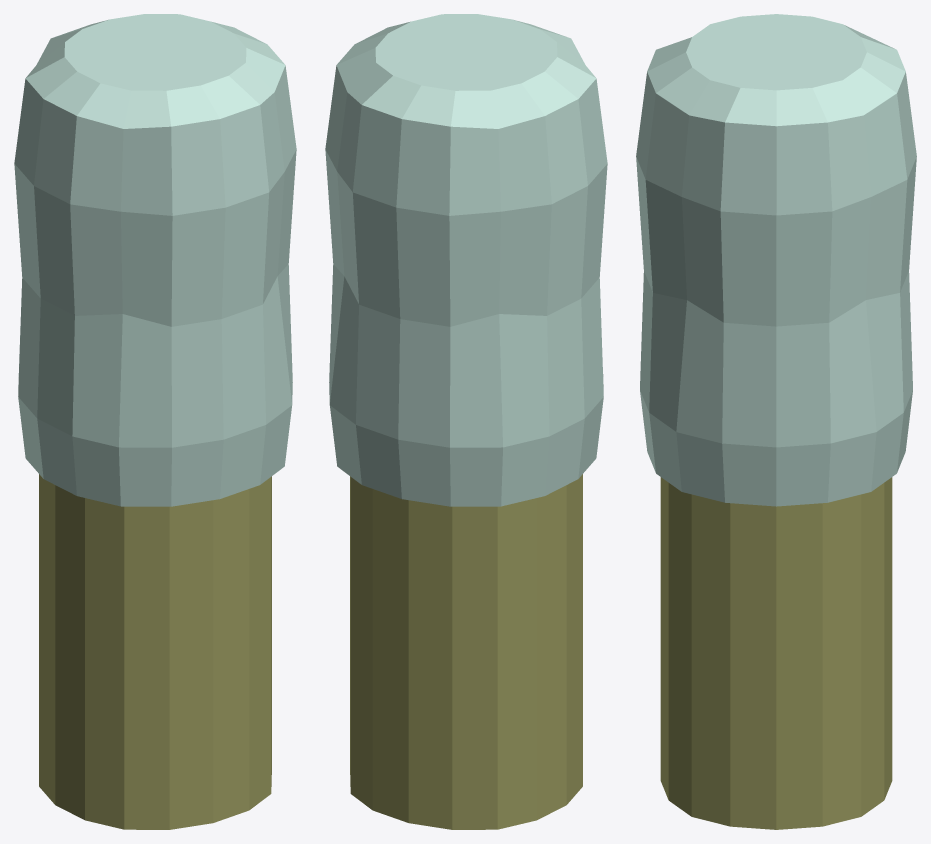
Rendered from Perangkap_Model.fbx.
3 views of the same model, side by side, from view 1: azimuth 30°, elevation 25°; view 2: azimuth 150°, elevation 25°; view 3: azimuth 270°, elevation 25° (orthographic).
Visible parts, largest first — view 1: Plane.025; view 2: Plane.025; view 3: Plane.025.
Boxes of the visible parts, <box> form: Plane.025: <box>14,14,296,829</box>; Plane.025: <box>325,14,607,829</box>; Plane.025: <box>636,14,916,829</box>.
Bounding box in the file's own units: 8.4 × 24.05 × 8.4.
